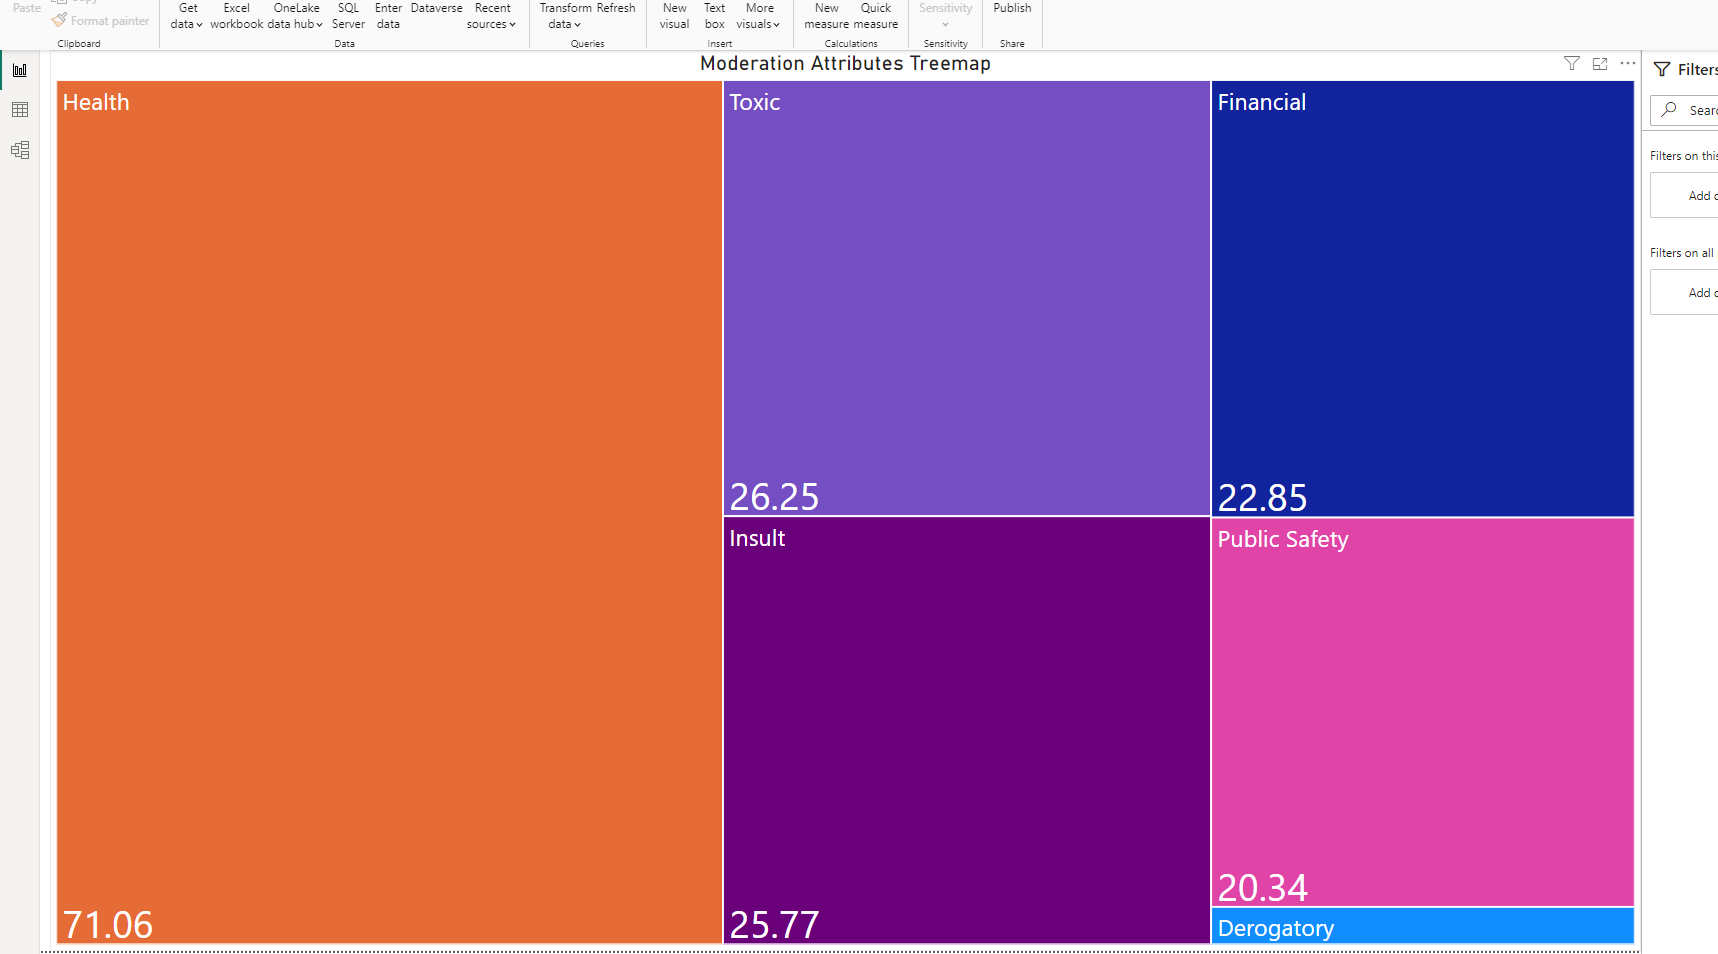

Layout of this report page (visuals, bound fields, positions):
{"tool":"powerbi","page":{"name":"ModerationTree","canvas":[1280,720],"ordinal":2},"visuals":[{"type":"treemap","title":"Moderation Attributes Treemap","fields":{"Values":["Sum(moderate.derogatory)","Sum(moderate.finance)","Sum(moderate.health)","Sum(moderate.insult)","Sum(moderate.public_safety)","Sum(moderate.toxix)"]},"box":[8,0,1272,720],"z":0}]}

Visuals, with their boxes on the page's 1280x720 design canvas (x1, y1, x2, y2). These are canvas units, not pixel positions in the 1718x954 screenshot, which may show the page scaled, cropped or inside an application window:
"Moderation Attributes Treemap" treemap: <bbox>8, 0, 1280, 720</bbox>
